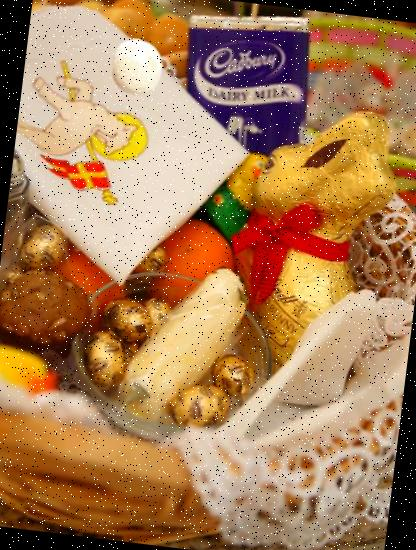Cantaloupe: (107, 36, 169, 98)
